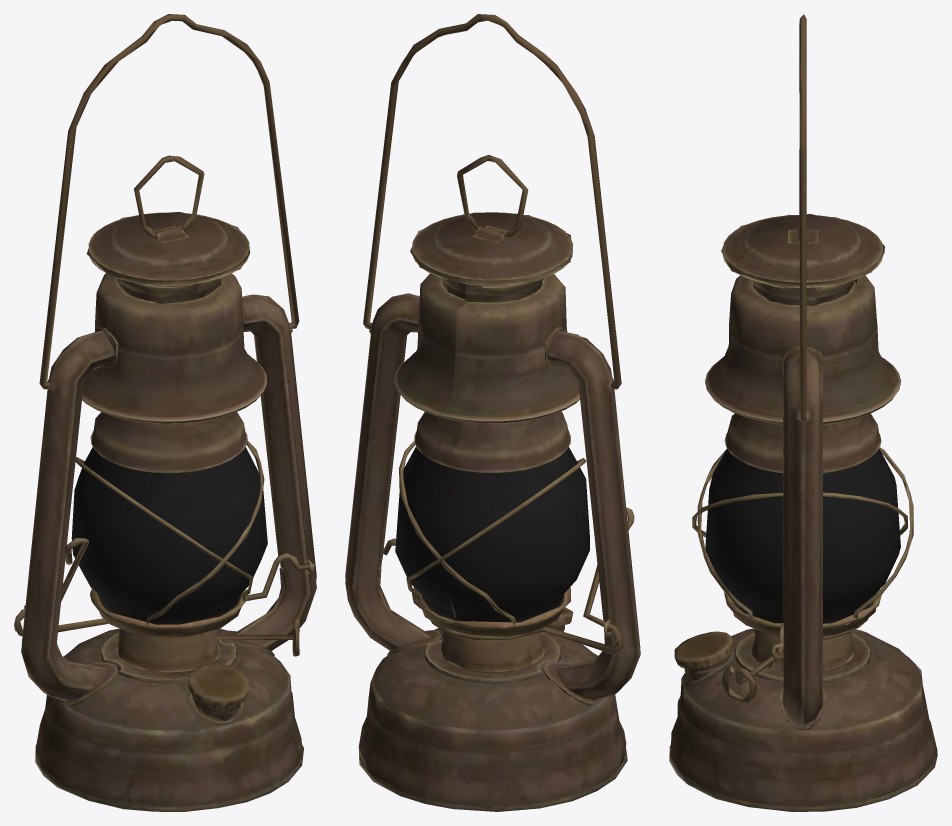
Rendered from Lantern_01.glb.
3 views of the same model, side by side, from view 1: azimuth 30°, elevation 25°; view 2: azimuth 150°, elevation 25°; view 3: azimuth 270°, elevation 25° (orthographic).
Visible parts, largest first — view 1: Lantern_01, Lantern_01_glass; view 2: Lantern_01, Lantern_01_glass; view 3: Lantern_01, Lantern_01_glass.
Boxes of the visible parts, left/top/right/bottom form: Lantern_01: left=14, top=14, right=316, bottom=811; Lantern_01_glass: left=71, top=447, right=267, bottom=624; Lantern_01: left=345, top=14, right=640, bottom=811; Lantern_01_glass: left=395, top=446, right=589, bottom=622; Lantern_01: left=669, top=14, right=937, bottom=811; Lantern_01_glass: left=705, top=448, right=900, bottom=623.
Bounding box in the file's own units: 0.1226 × 0.2943 × 0.097.
2 materials, 2 textured.
